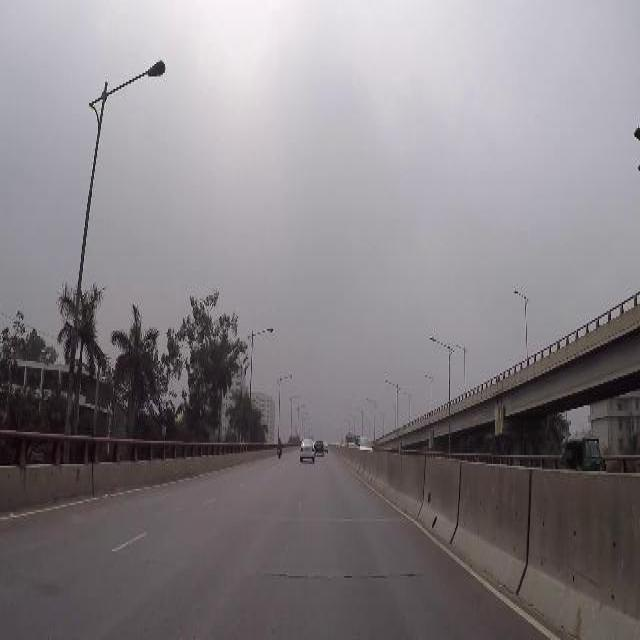car: (299, 439, 313, 461), (314, 440, 324, 452), (348, 440, 356, 449), (322, 439, 326, 450)
motorbike: (276, 435, 282, 457)
three wheelers -CNG-: (558, 434, 602, 469)
van: (357, 436, 373, 450)
